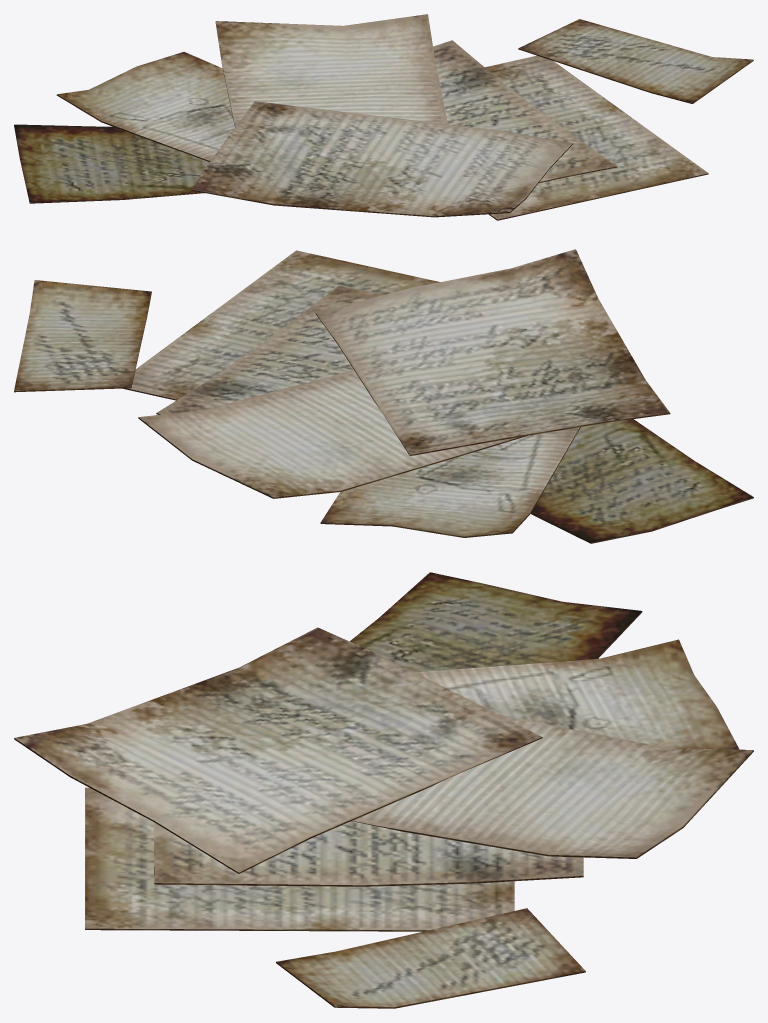
File: paper02.DAE
3 renders of one model, top to bottom at view 1: azimuth 30°, elevation 25°; view 2: azimuth 150°, elevation 25°; view 3: azimuth 270°, elevation 25°, orthographic. The views are drawn at different scales.
Parts seen in each view (by area): view 1: paper02; view 2: paper02; view 3: paper02.
Boxes of the visible parts, bbox=[...] form: paper02: bbox=[14, 14, 753, 220]; paper02: bbox=[14, 249, 753, 543]; paper02: bbox=[14, 572, 753, 1008].
Bounding box in the file's own units: 0.6132 × 0.0335 × 0.439.
